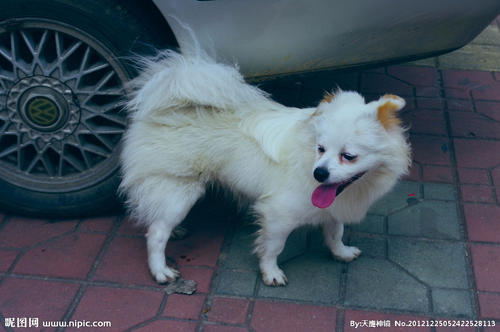dog: (293, 86, 407, 222)
